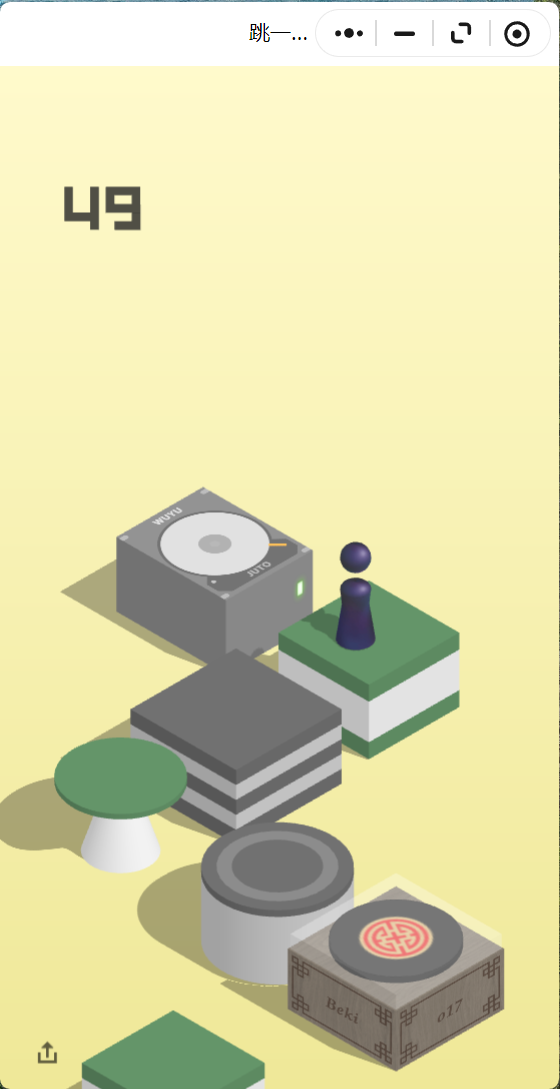piece: (340, 542, 371, 646)
target: (117, 486, 312, 600)
